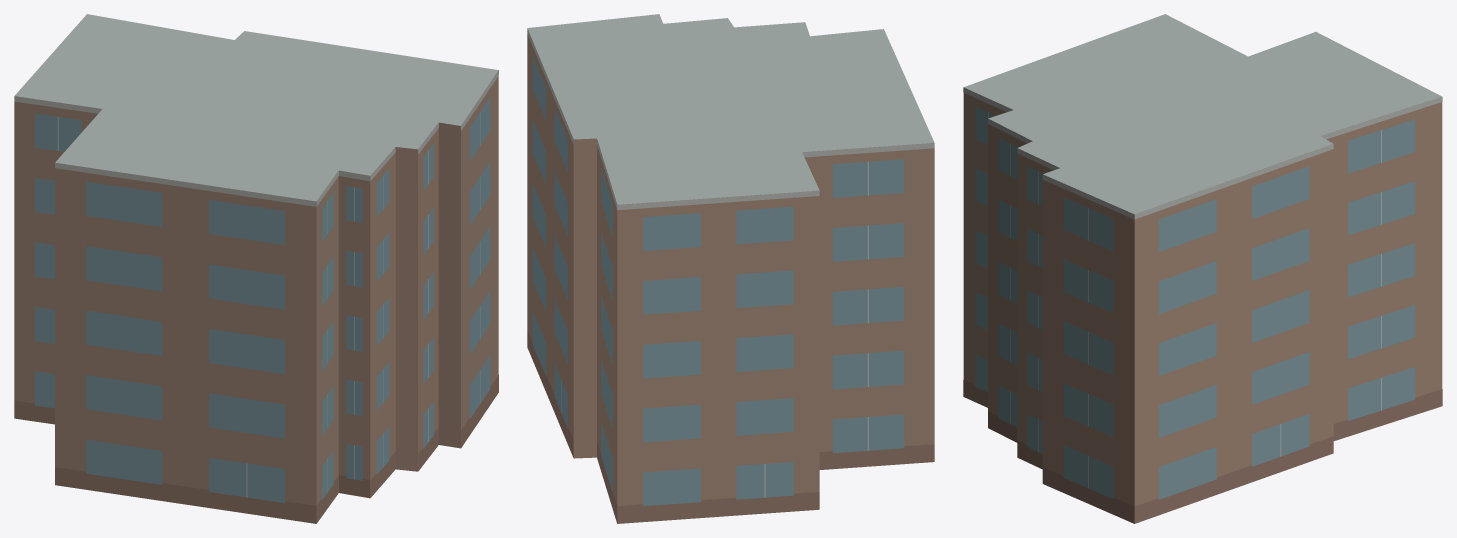
The model's file is survey-upis-32681311.glb.
3 views of the same model, side by side, from view 1: azimuth 30°, elevation 25°; view 2: azimuth 150°, elevation 25°; view 3: azimuth 270°, elevation 25° (orthographic). The views are drawn at different scales.
Parts seen in each view (by area): view 1: survey-upis-32681311.tmp; view 2: survey-upis-32681311.tmp; view 3: survey-upis-32681311.tmp.
Boxes of the visible parts, x1,y1,x2,y2 form: survey-upis-32681311.tmp: (14, 14, 498, 523); survey-upis-32681311.tmp: (527, 14, 934, 523); survey-upis-32681311.tmp: (963, 14, 1442, 523).
Bounding box in the file's own units: 20 × 14.4 × 20.2.
